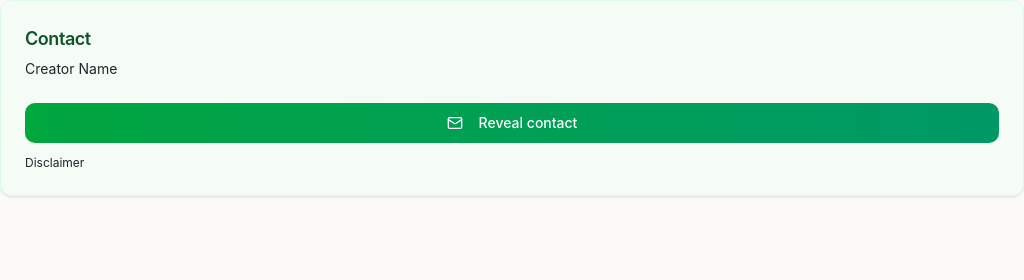
ContactCardV2 › falls back to creator contact when org contact is missing
The width and height of the screenshot is (1024, 280).
Expected: the text "Creator Name" is shown, left=25, top=60, right=117, bottom=77
Click the button "Reveal contact" at (512, 123), box left=25, top=103, right=999, bottom=143
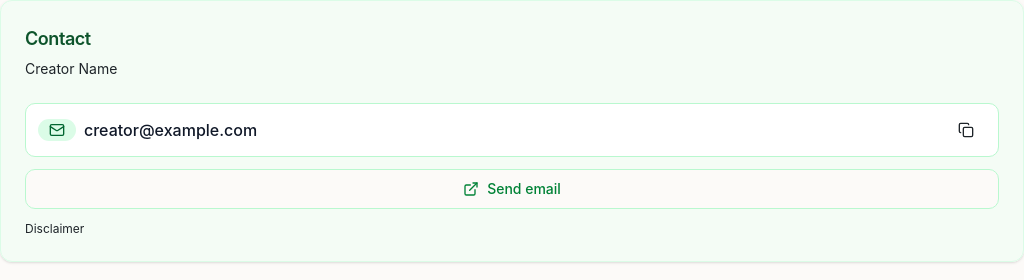
Expected: the text "creator@example.com" is shown, left=84, top=118, right=257, bottom=142
